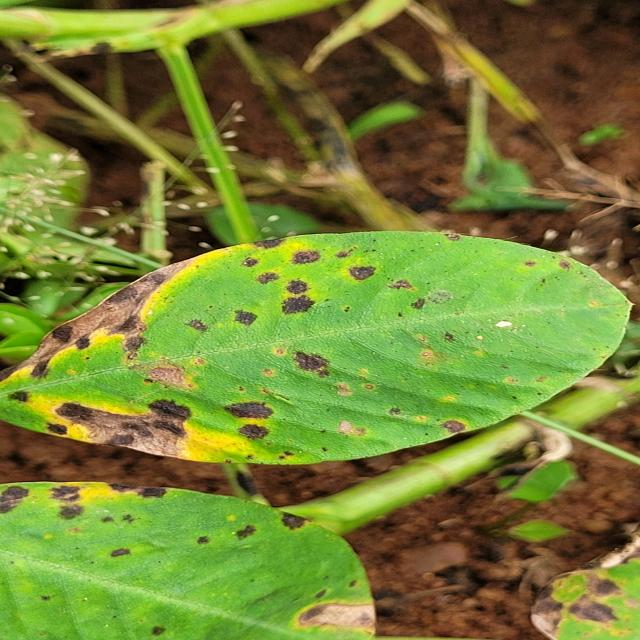Ground nut_tikka leaf spot: (0, 229, 640, 468)
